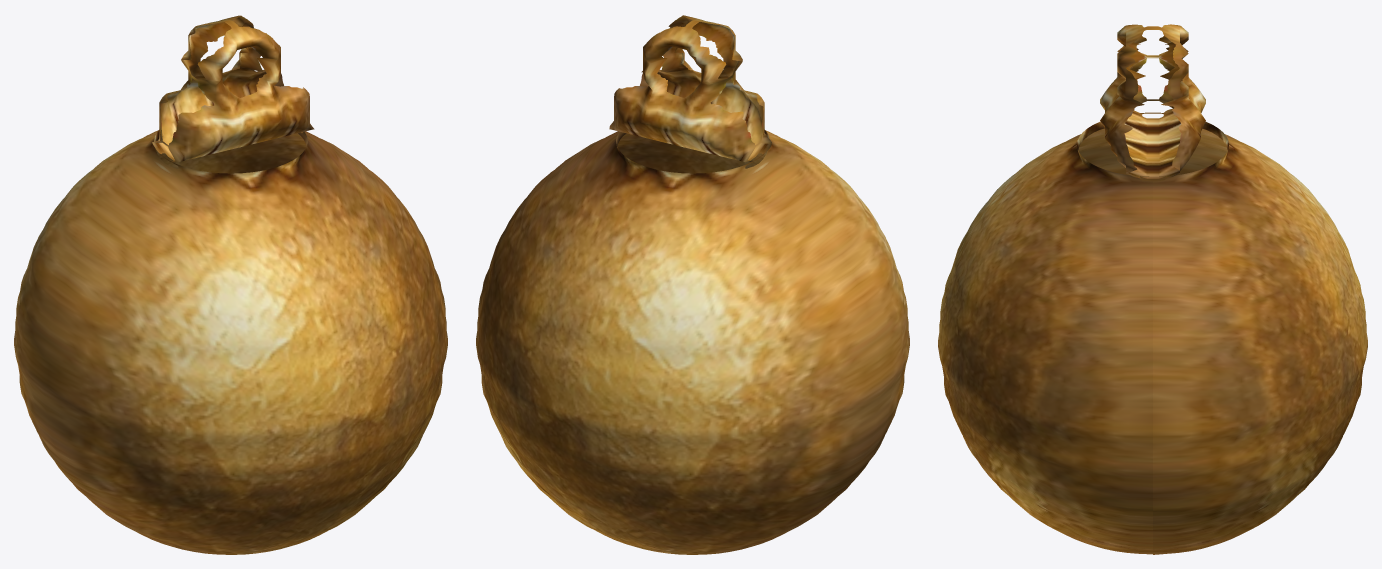
Rendered from Item_gold.glb.
The picture shows the model from 3 angles, left to right: view 1: azimuth 30°, elevation 25°; view 2: azimuth 150°, elevation 25°; view 3: azimuth 270°, elevation 25°; orthographic projection.
Visible parts, largest first — view 1: Lacquered glass.001, Item_gold carving; view 2: Lacquered glass.001, Item_gold carving; view 3: Lacquered glass.001, Item_gold carving.
Part boxes in pixels (<box>): Lacquered glass.001: <box>14,130,447,554</box>; Item_gold carving: <box>152,15,314,162</box>; Lacquered glass.001: <box>476,130,909,554</box>; Item_gold carving: <box>609,15,771,162</box>; Lacquered glass.001: <box>938,112,1367,554</box>; Item_gold carving: <box>1100,24,1205,178</box>.
Bounding box in the file's own units: 0.219 × 0.2852 × 0.219.
1 material, 1 textured.
